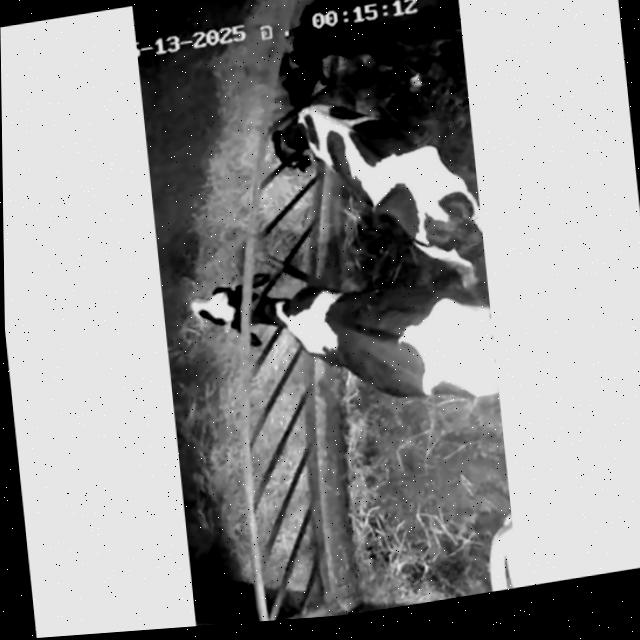eat: (172, 254, 348, 374), (229, 87, 388, 215), (234, 0, 389, 108)
